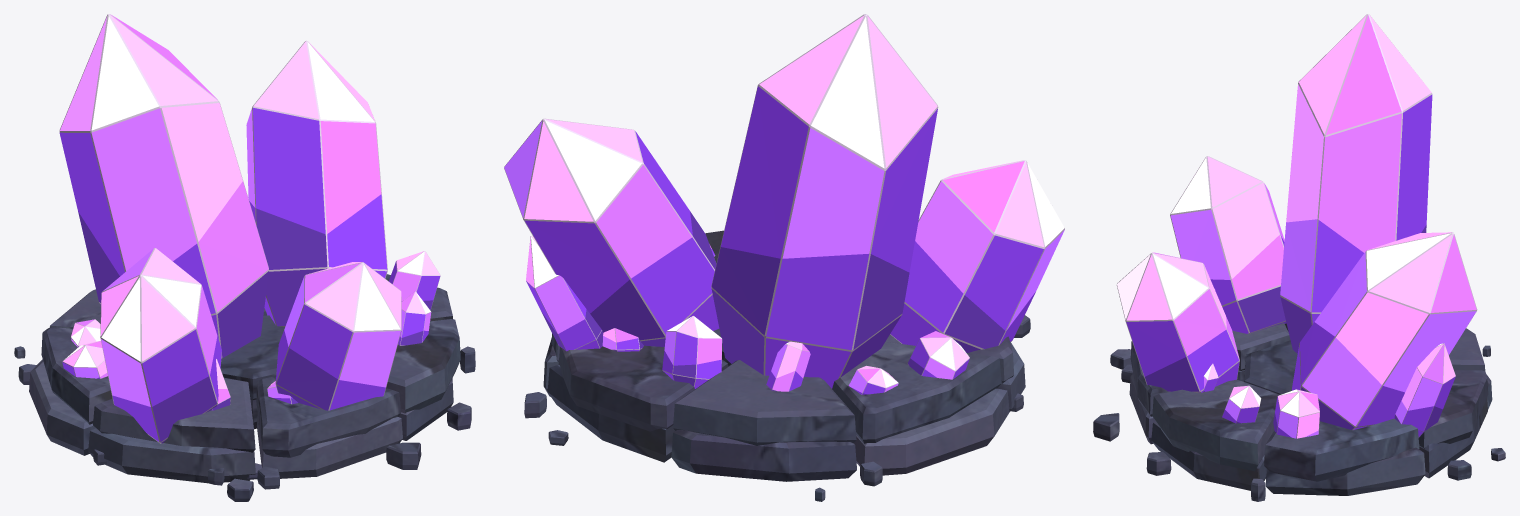
File: SM_CC_CrystalViolet.fbx
3 renders of one model, left to right at view 1: azimuth 30°, elevation 25°; view 2: azimuth 150°, elevation 25°; view 3: azimuth 270°, elevation 25°, orthographic. The views are drawn at different scales.
Visible parts, largest first — view 1: SM_CC_CrystalViolet; view 2: SM_CC_CrystalViolet; view 3: SM_CC_CrystalViolet.
Part boxes in pixels (x1,y1,x2,y2): SM_CC_CrystalViolet: (14, 14, 475, 501); SM_CC_CrystalViolet: (504, 14, 1064, 501); SM_CC_CrystalViolet: (1093, 14, 1505, 501).
Bounding box in the file's own units: 1.4 × 1.37 × 1.3.
